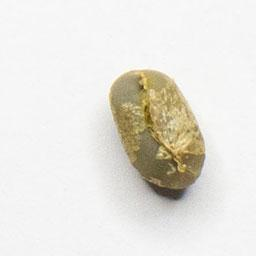peaberry: (105, 63, 210, 194)
